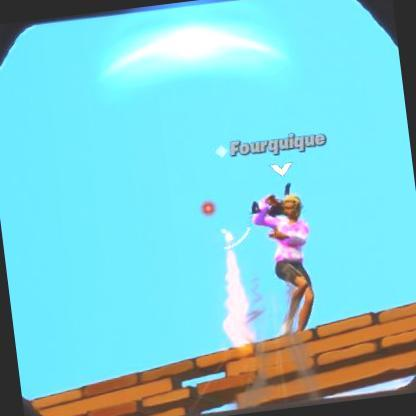person: (249, 190, 324, 338)
